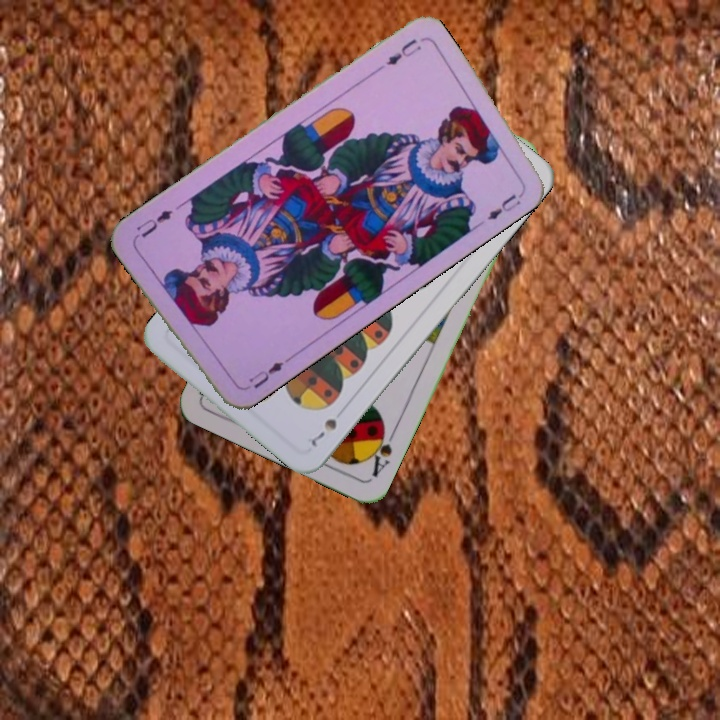EU: (371, 34, 424, 75), (240, 354, 292, 391)
S7: (306, 414, 340, 449)
SA: (363, 420, 399, 480)
